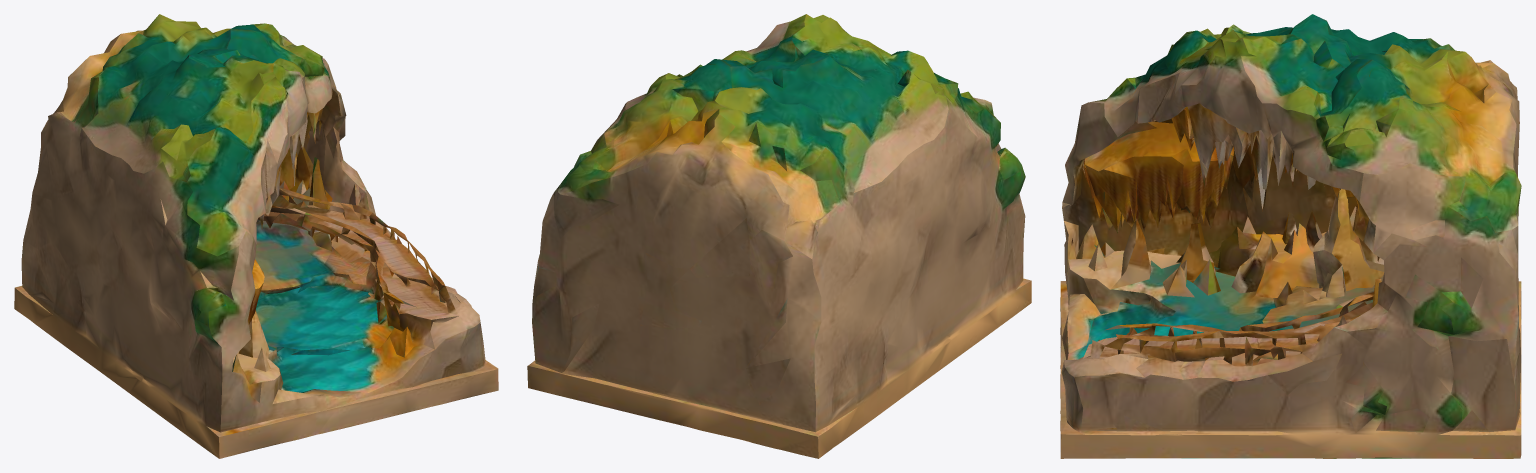
Rendered from gyokusendo.glb.
3 views of the same model, side by side, from view 1: azimuth 30°, elevation 25°; view 2: azimuth 150°, elevation 25°; view 3: azimuth 270°, elevation 25° (orthographic). The views are drawn at different scales.
Visible parts, largest first — view 1: logan-textured.obj; view 2: logan-textured.obj; view 3: logan-textured.obj.
Boxes of the visible parts, x1=… form: logan-textured.obj: x1=14, y1=14, x2=498, y2=458; logan-textured.obj: x1=527, y1=14, x2=1031, y2=458; logan-textured.obj: x1=1060, y1=14, x2=1521, y2=458.
Bounding box in the file's own units: 0.8202 × 0.818 × 1.
1 material, 1 textured.
